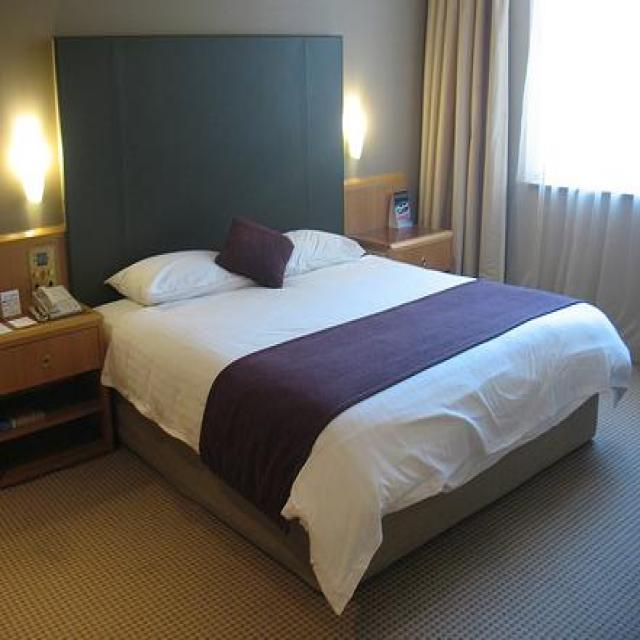bed: (48, 32, 639, 622)
